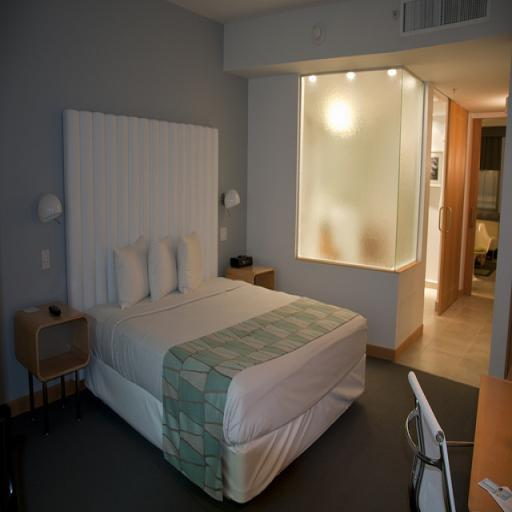bed: (52, 102, 380, 510)
